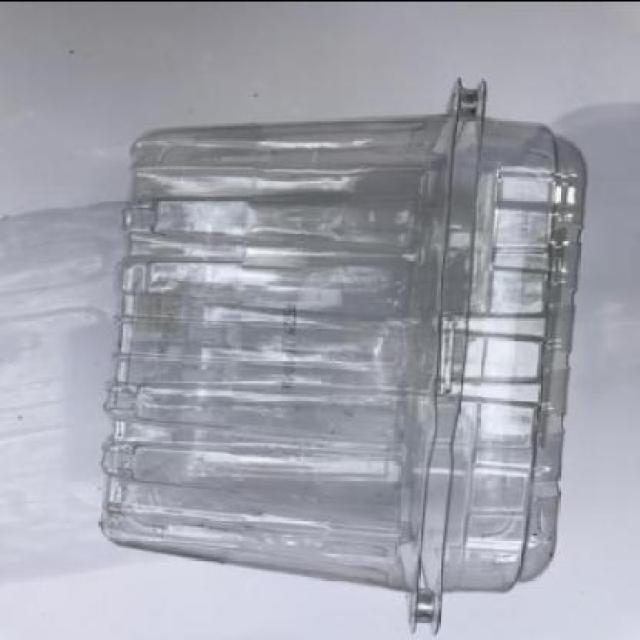PLASTIC: (97, 79, 586, 638)
